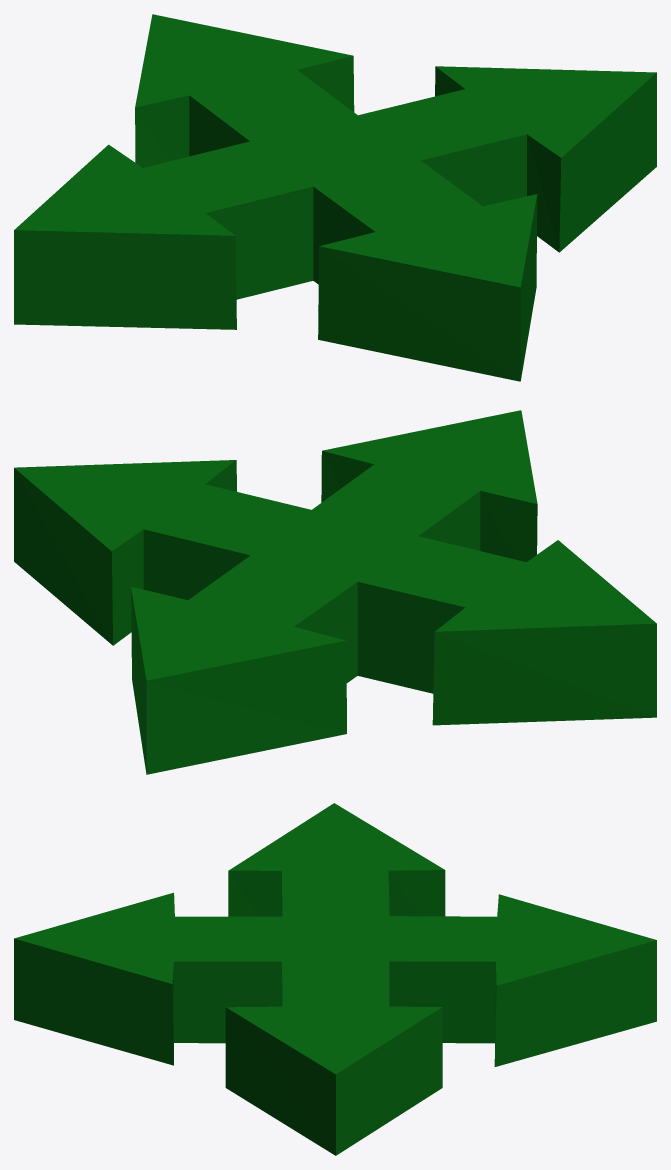
Rendered from movecursor.FBX.
3 views of the same model, one above another, from view 1: azimuth 30°, elevation 25°; view 2: azimuth 150°, elevation 25°; view 3: azimuth 270°, elevation 25° (orthographic). The views are drawn at different scales.
Parts seen in each view (by area): view 1: Box001; view 2: Box001; view 3: Box001.
Boxes of the visible parts, x1,y1,x2,y2 form: Box001: (14, 14, 656, 381); Box001: (14, 410, 656, 774); Box001: (14, 803, 656, 1155).
Bounding box in the file's own units: 118 × 16.58 × 119.
